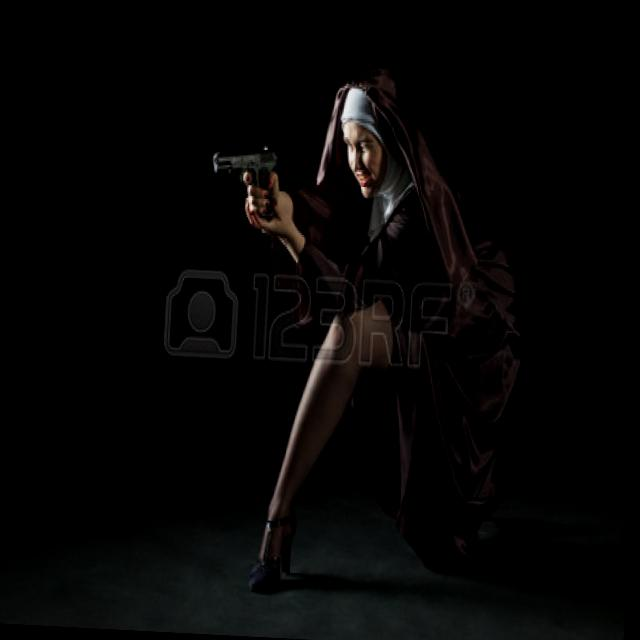handgun: (207, 137, 279, 223)
